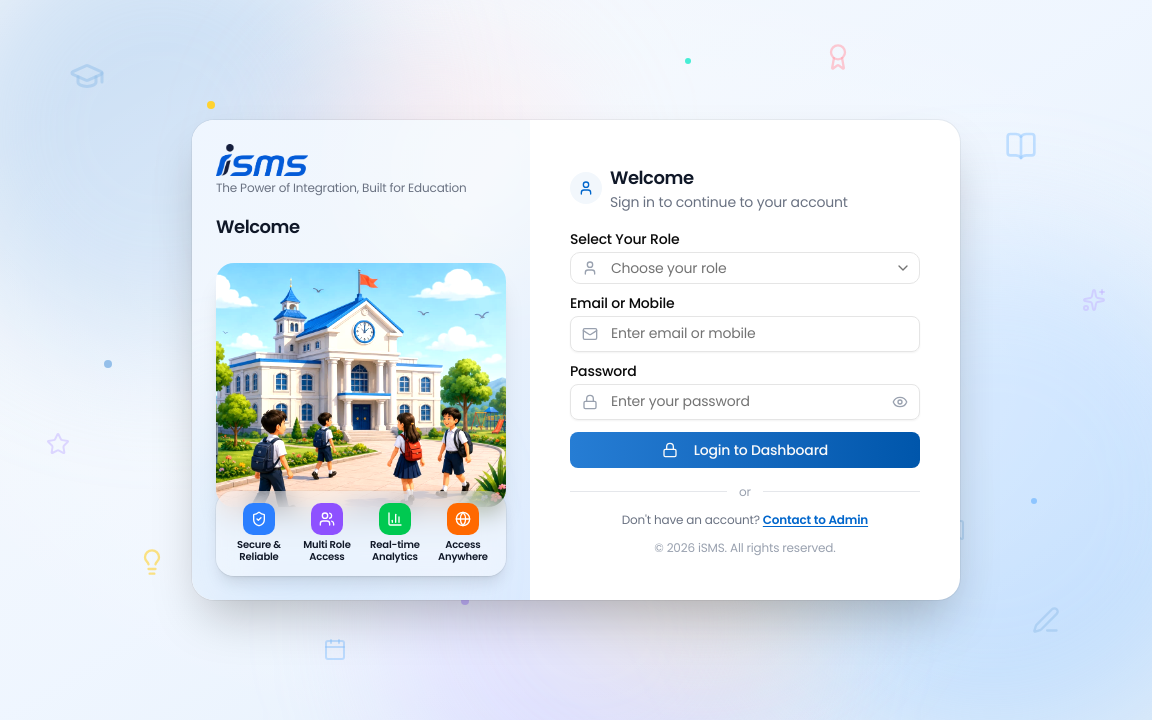
Test case: LoginForm › renders the role dropdown, username and password fields
expect the field labelled "Email or Mobile" is shown: met, box [570, 316, 920, 352]
expect the password field labelled "Password" is shown: met, box [570, 384, 920, 420]
the role dropdown lists the known roles
Click the dropdown labelled "Choose your role ▼".
click(669, 268)  # box [570, 252, 920, 284]
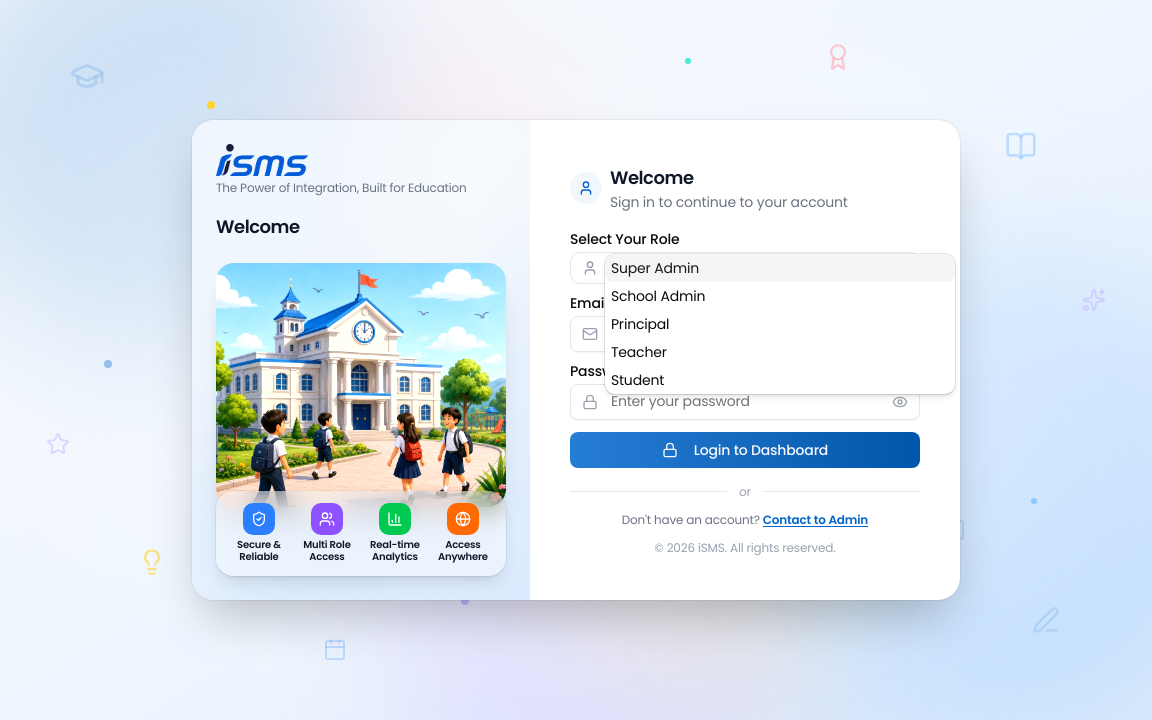
expect the option "Teacher" is shown: met, box [611, 342, 667, 362]
expect the option "Super Admin" is shown: met, box [605, 254, 955, 282]
